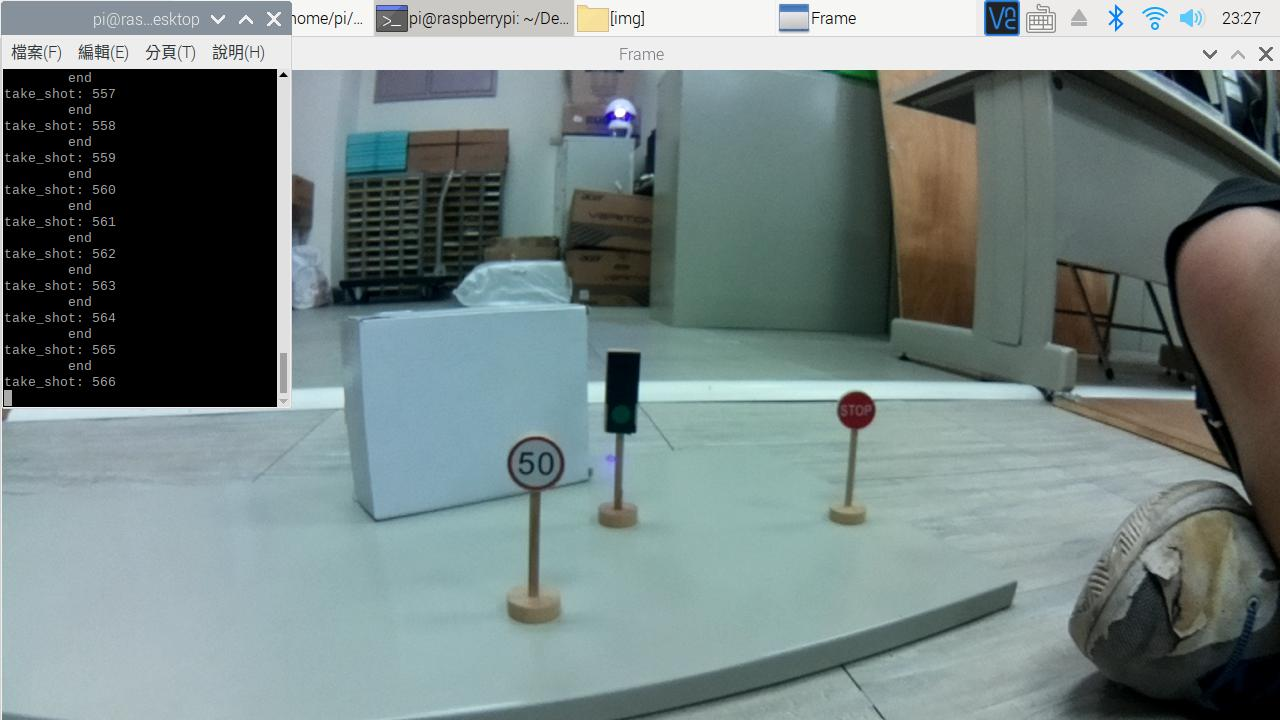Green: (599, 342, 646, 443)
Speed50: (489, 425, 573, 495)
Stop: (825, 386, 891, 443)
